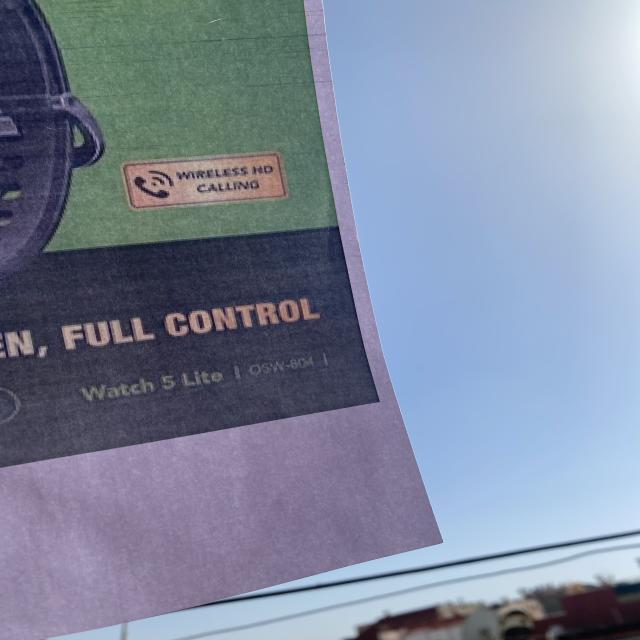Watch 5 Lite OSW-804: (70, 349, 341, 410)
